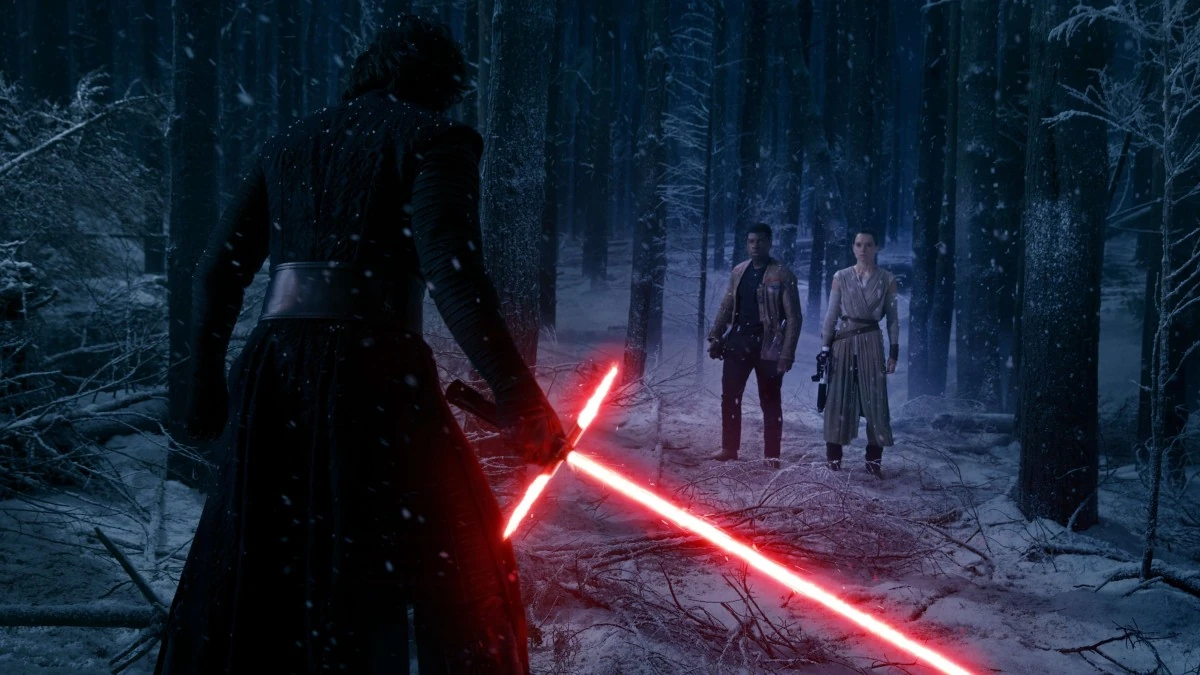cats: (433, 351, 1012, 674)
